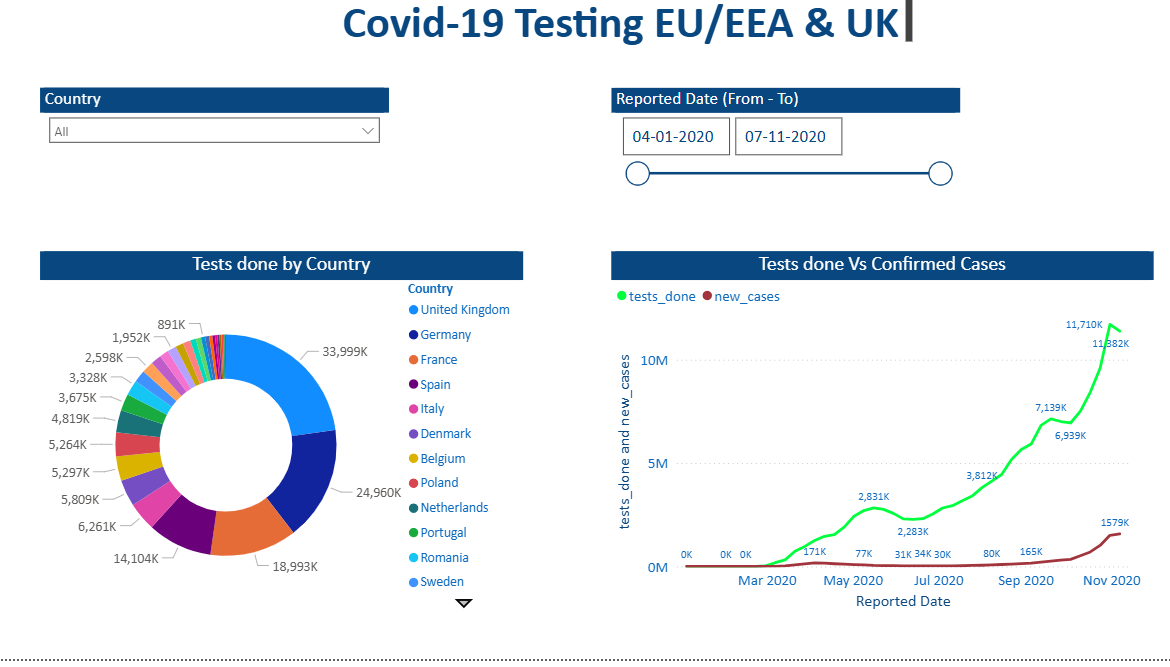

The dashboard page shown, as its layout file describes it:
{"tool":"powerbi","page":{"name":"Testing","canvas":[1280,720],"ordinal":2},"visuals":[{"type":"donutChart","title":"Tests done by Country","fields":{"Category":["covid_reporting testing.country"],"Y":["Sum(covid_reporting testing.tests_done)"]},"box":[56,280,520,392],"z":0},{"type":"lineChart","title":"Tests done Vs Confirmed Cases","fields":{"Category":["covid_reporting testing.week_end_date"],"Y":["Sum(covid_reporting testing.tests_done)","Sum(covid_reporting testing.new_cases)"]},"box":[672,280,584,392],"z":1000},{"type":"slicer","title":"Reported Date (From - To)","fields":{"Values":["covid_reporting testing.week_end_date"]},"box":[671.7,104.3,375.7,112],"z":2000},{"type":"slicer","title":"Country","fields":{"Values":["covid_reporting testing.country"]},"box":[56,104.3,375.7,119.7],"z":3000},{"type":"textbox","box":[376,0,624,64],"z":4000}]}

Visuals, with their boxes in screenshot pixels (x1, y1, x2, y2), scaled from the page's 1280x720 canvas onto the 1170x667 screenshot:
"Tests done by Country" donutChart: left=51, top=259, right=526, bottom=623
"Tests done Vs Confirmed Cases" lineChart: left=614, top=259, right=1148, bottom=623
"Reported Date (From - To)" slicer: left=614, top=97, right=957, bottom=200
"Country" slicer: left=51, top=97, right=395, bottom=208
textbox: left=344, top=0, right=914, bottom=59
